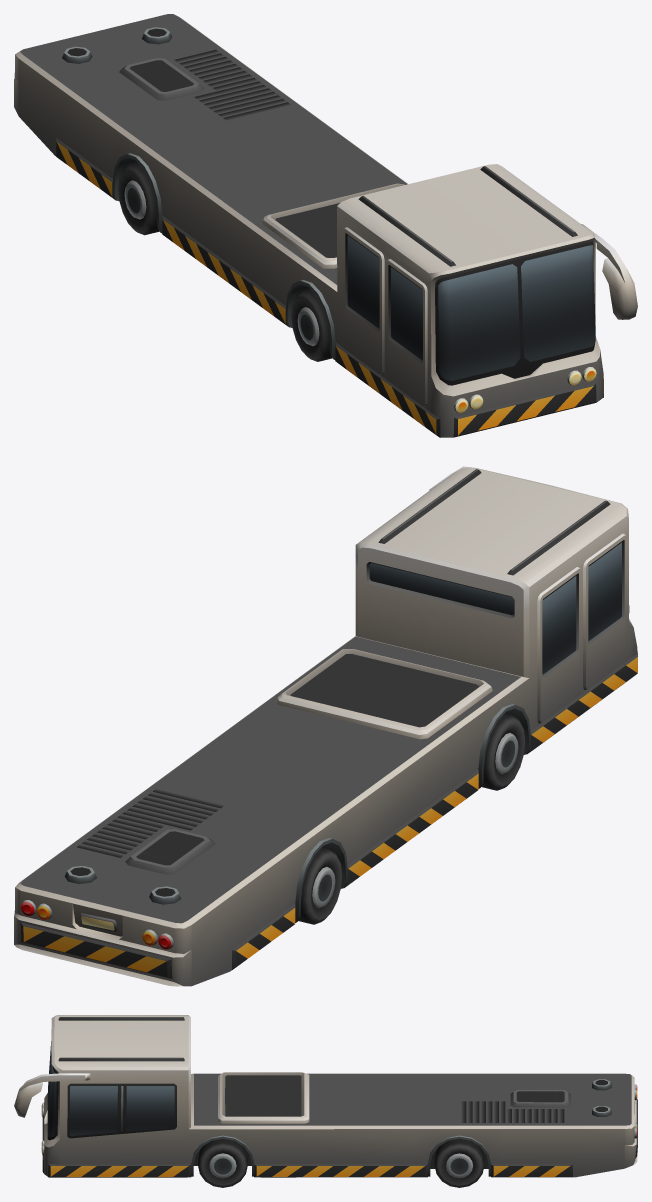
File: Truck_2A.fbx
The picture shows the model from 3 angles, top to bottom: view 1: azimuth 30°, elevation 25°; view 2: azimuth 150°, elevation 25°; view 3: azimuth 270°, elevation 25°; orthographic projection. The views are drawn at different scales.
Visible parts, largest first — view 1: Truck_2A, Truck_2A_Wheel_R.R, Truck_2A_Wheel_F.R; view 2: Truck_2A, Truck_2A_Wheel_R.R, Truck_2A_Wheel_F.R; view 3: Truck_2A, Truck_2A_Wheel_R.L, Truck_2A_Wheel_F.L.
Part boxes in pixels (box(x1,y1,x2,y2)): Truck_2A: box(14, 14, 637, 437); Truck_2A_Wheel_R.R: box(118, 162, 159, 235); Truck_2A_Wheel_F.R: box(291, 289, 332, 361); Truck_2A: box(14, 466, 637, 986); Truck_2A_Wheel_R.R: box(298, 847, 342, 924); Truck_2A_Wheel_F.R: box(481, 713, 525, 790); Truck_2A: box(14, 1015, 637, 1177); Truck_2A_Wheel_R.L: box(434, 1139, 484, 1187); Truck_2A_Wheel_F.L: box(198, 1139, 247, 1187).
Size of the model in its own units: 306 by 286 by 1320.
